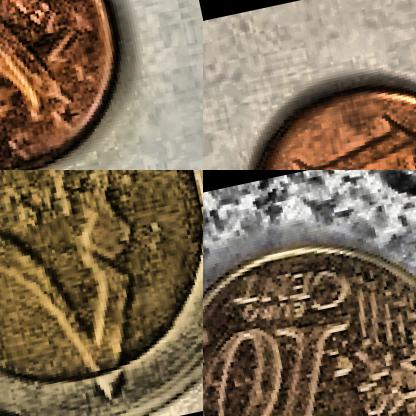coin: (0, 170, 202, 415), (203, 218, 415, 415), (0, 0, 144, 169), (227, 60, 415, 169)
